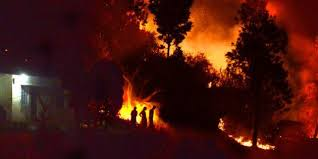fire: (122, 93, 159, 122)
smoke: (290, 32, 312, 137)
